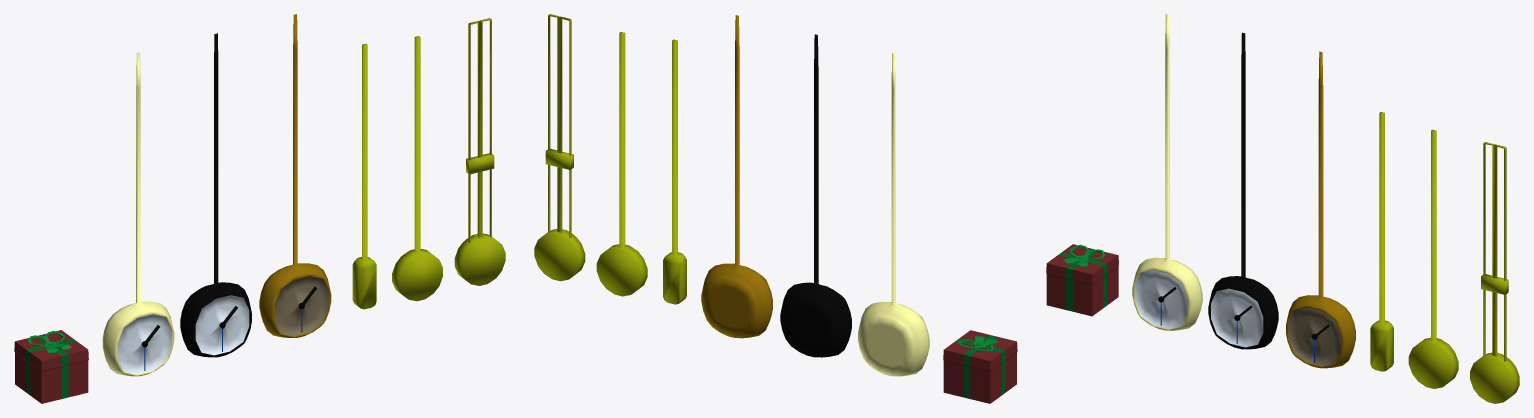
Rendered from 礼盒和钟摆.fbx.
3 renders of one model, left to right at view 1: azimuth 30°, elevation 25°; view 2: azimuth 150°, elevation 25°; view 3: azimuth 330°, elevation 25°, orthographic. The views are drawn at different scales.
Visible parts, largest first — view 1: Cube.047, Cube.050, Cube.049, Cube.054, Cube.052, Cube.055, Cube.051, Cube.053; view 2: Cube.049, Cube.050, Cube.047, Cube.054, Cube.052, Cube.055, Cube.051, Cube.053; view 3: Cube.050, Cube.049, Cube.047, Cube.054, Cube.052, Cube.055, Cube.051, Cube.053.
Boxes of the visible parts, x1,y1,x2,y2 form: Cube.047: (102, 52, 174, 376); Cube.050: (259, 14, 331, 337); Cube.049: (180, 33, 251, 357); Cube.054: (454, 18, 505, 285); Cube.052: (392, 36, 442, 301); Cube.055: (352, 43, 376, 309); Cube.051: (15, 353, 88, 403); Cube.053: (14, 330, 88, 372); Cube.049: (780, 34, 851, 357); Cube.050: (701, 15, 772, 338); Cube.047: (858, 53, 929, 376); Cube.054: (534, 14, 585, 281); Cube.052: (596, 32, 647, 296); Cube.055: (663, 39, 686, 304); Cube.051: (943, 353, 1016, 403); Cube.053: (943, 330, 1017, 372); Cube.050: (1286, 51, 1355, 368); Cube.049: (1208, 32, 1278, 349); Cube.047: (1132, 14, 1202, 330); Cube.054: (1470, 142, 1519, 403); Cube.052: (1408, 129, 1458, 388); Cube.055: (1370, 112, 1393, 371); Cube.051: (1046, 266, 1118, 316); Cube.053: (1046, 244, 1118, 285).
Bounding box in the file's own units: 2019 × 1320 × 203.
